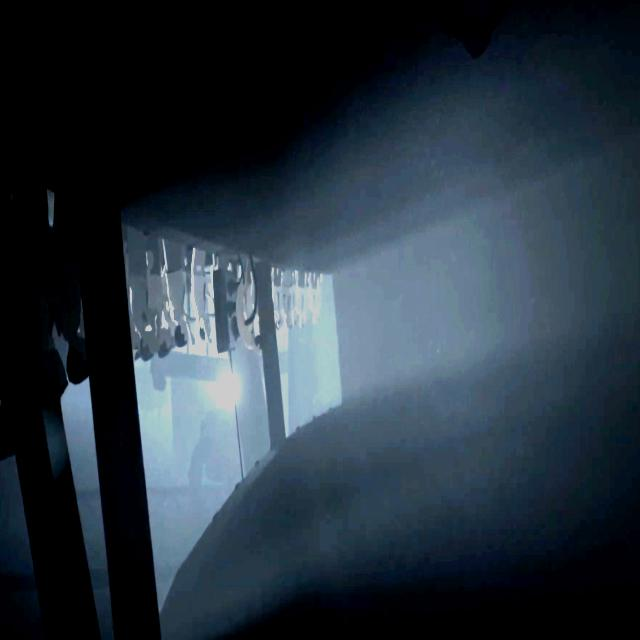boy: (237, 272, 264, 355)
human: (15, 187, 67, 398), (52, 201, 88, 385), (125, 224, 154, 359), (165, 233, 189, 349), (152, 234, 172, 360), (192, 247, 212, 345), (274, 272, 284, 331), (285, 274, 295, 331), (310, 277, 320, 327), (299, 274, 307, 330)
interactible: (213, 252, 258, 356)
mechanism: (370, 0, 538, 62), (565, 599, 640, 640)
